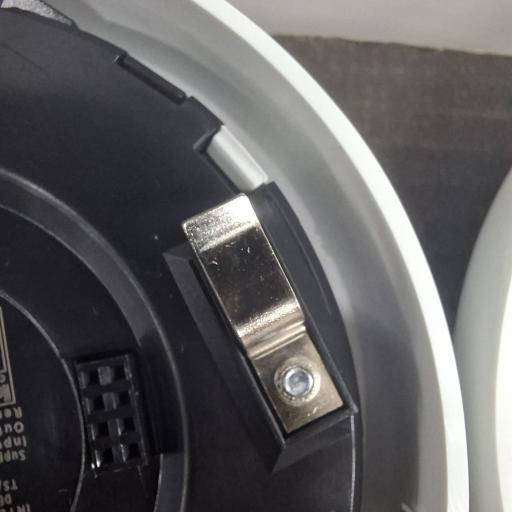yaysiz: (181, 194, 347, 435)
